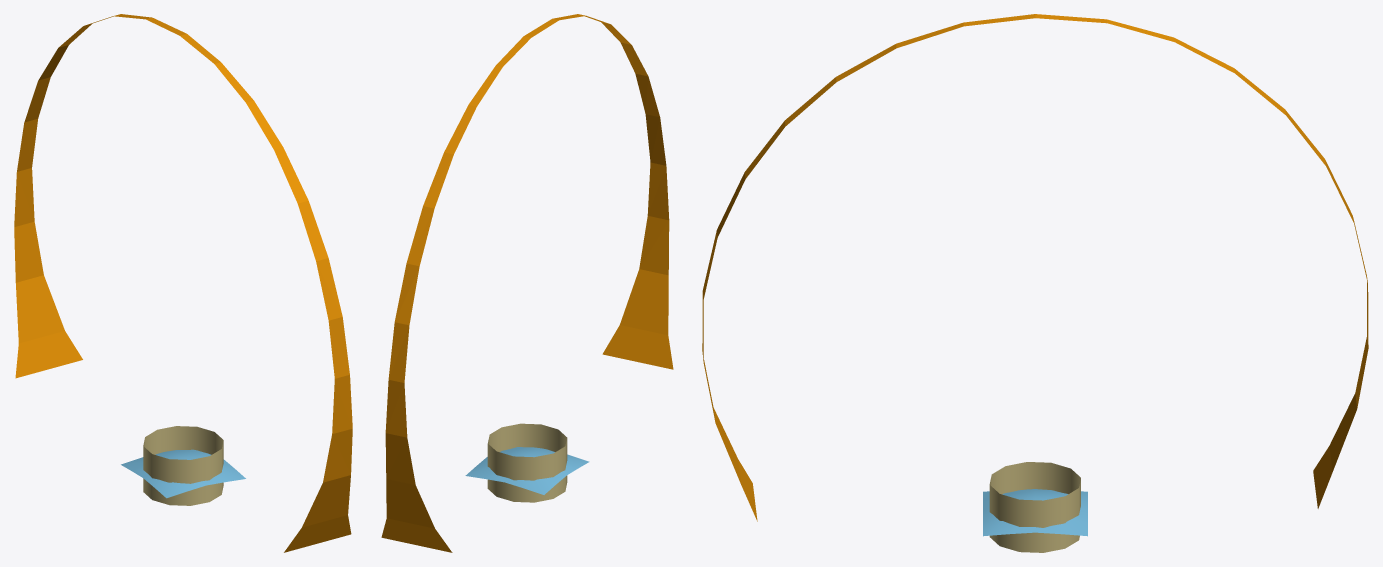
File: sky.fbx
3 views of the same model, side by side, from view 1: azimuth 30°, elevation 25°; view 2: azimuth 150°, elevation 25°; view 3: azimuth 270°, elevation 25° (orthographic). The views are drawn at different scales.
Parts seen in each view (by area): view 1: L6 sky 20.ring, L6 sky 30.clouds, L6 sky 10.dome; view 2: L6 sky 20.ring, L6 sky 30.clouds, L6 sky 10.dome; view 3: L6 sky 20.ring, L6 sky 30.clouds, L6 sky 10.dome.
Part boxes in pixels (left/top/right/bottom): L6 sky 20.ring: left=14, top=14, right=352, bottom=552; L6 sky 30.clouds: left=143, top=426, right=223, bottom=505; L6 sky 10.dome: left=121, top=449, right=245, bottom=498; L6 sky 20.ring: left=381, top=14, right=673, bottom=552; L6 sky 30.clouds: left=487, top=423, right=567, bottom=502; L6 sky 10.dome: left=465, top=447, right=589, bottom=494; L6 sky 20.ring: left=702, top=14, right=1368, bottom=521; L6 sky 30.clouds: left=989, top=462, right=1080, bottom=552; L6 sky 10.dome: left=983, top=489, right=1087, bottom=536.
Bounding box in the file's own units: 2.61e+07 × 1.23e+08 × 1.43e+08.
